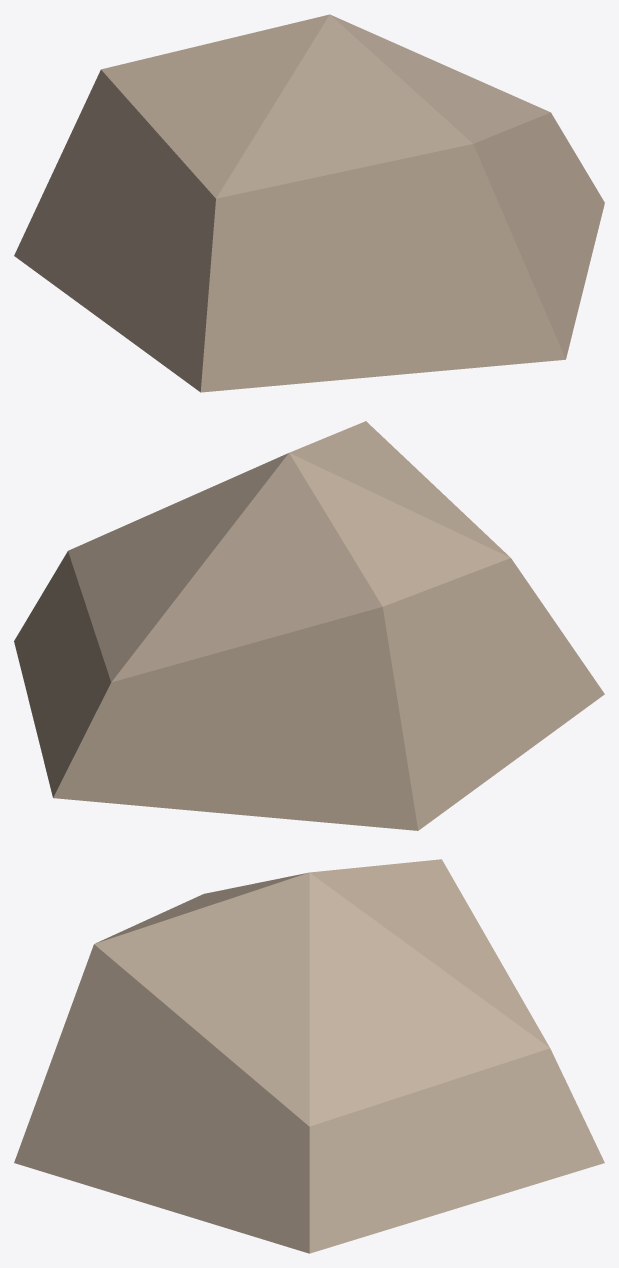
Rendered from rock_1.fbx.
3 views of the same model, one above another, from view 1: azimuth 30°, elevation 25°; view 2: azimuth 150°, elevation 25°; view 3: azimuth 270°, elevation 25° (orthographic). The views are drawn at different scales.
Visible parts, largest first — view 1: rock_1; view 2: rock_1; view 3: rock_1.
Part boxes in pixels (<box>): rock_1: <box>14,14,604,392</box>; rock_1: <box>14,421,604,830</box>; rock_1: <box>14,859,604,1253</box>.
Size of the model in its own units: 292 by 143 by 307.
